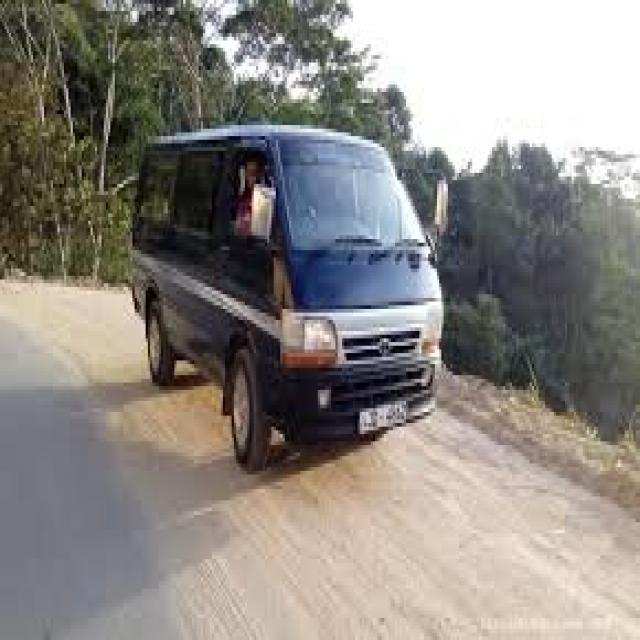person: (234, 154, 269, 239)
van: (130, 125, 439, 463)
